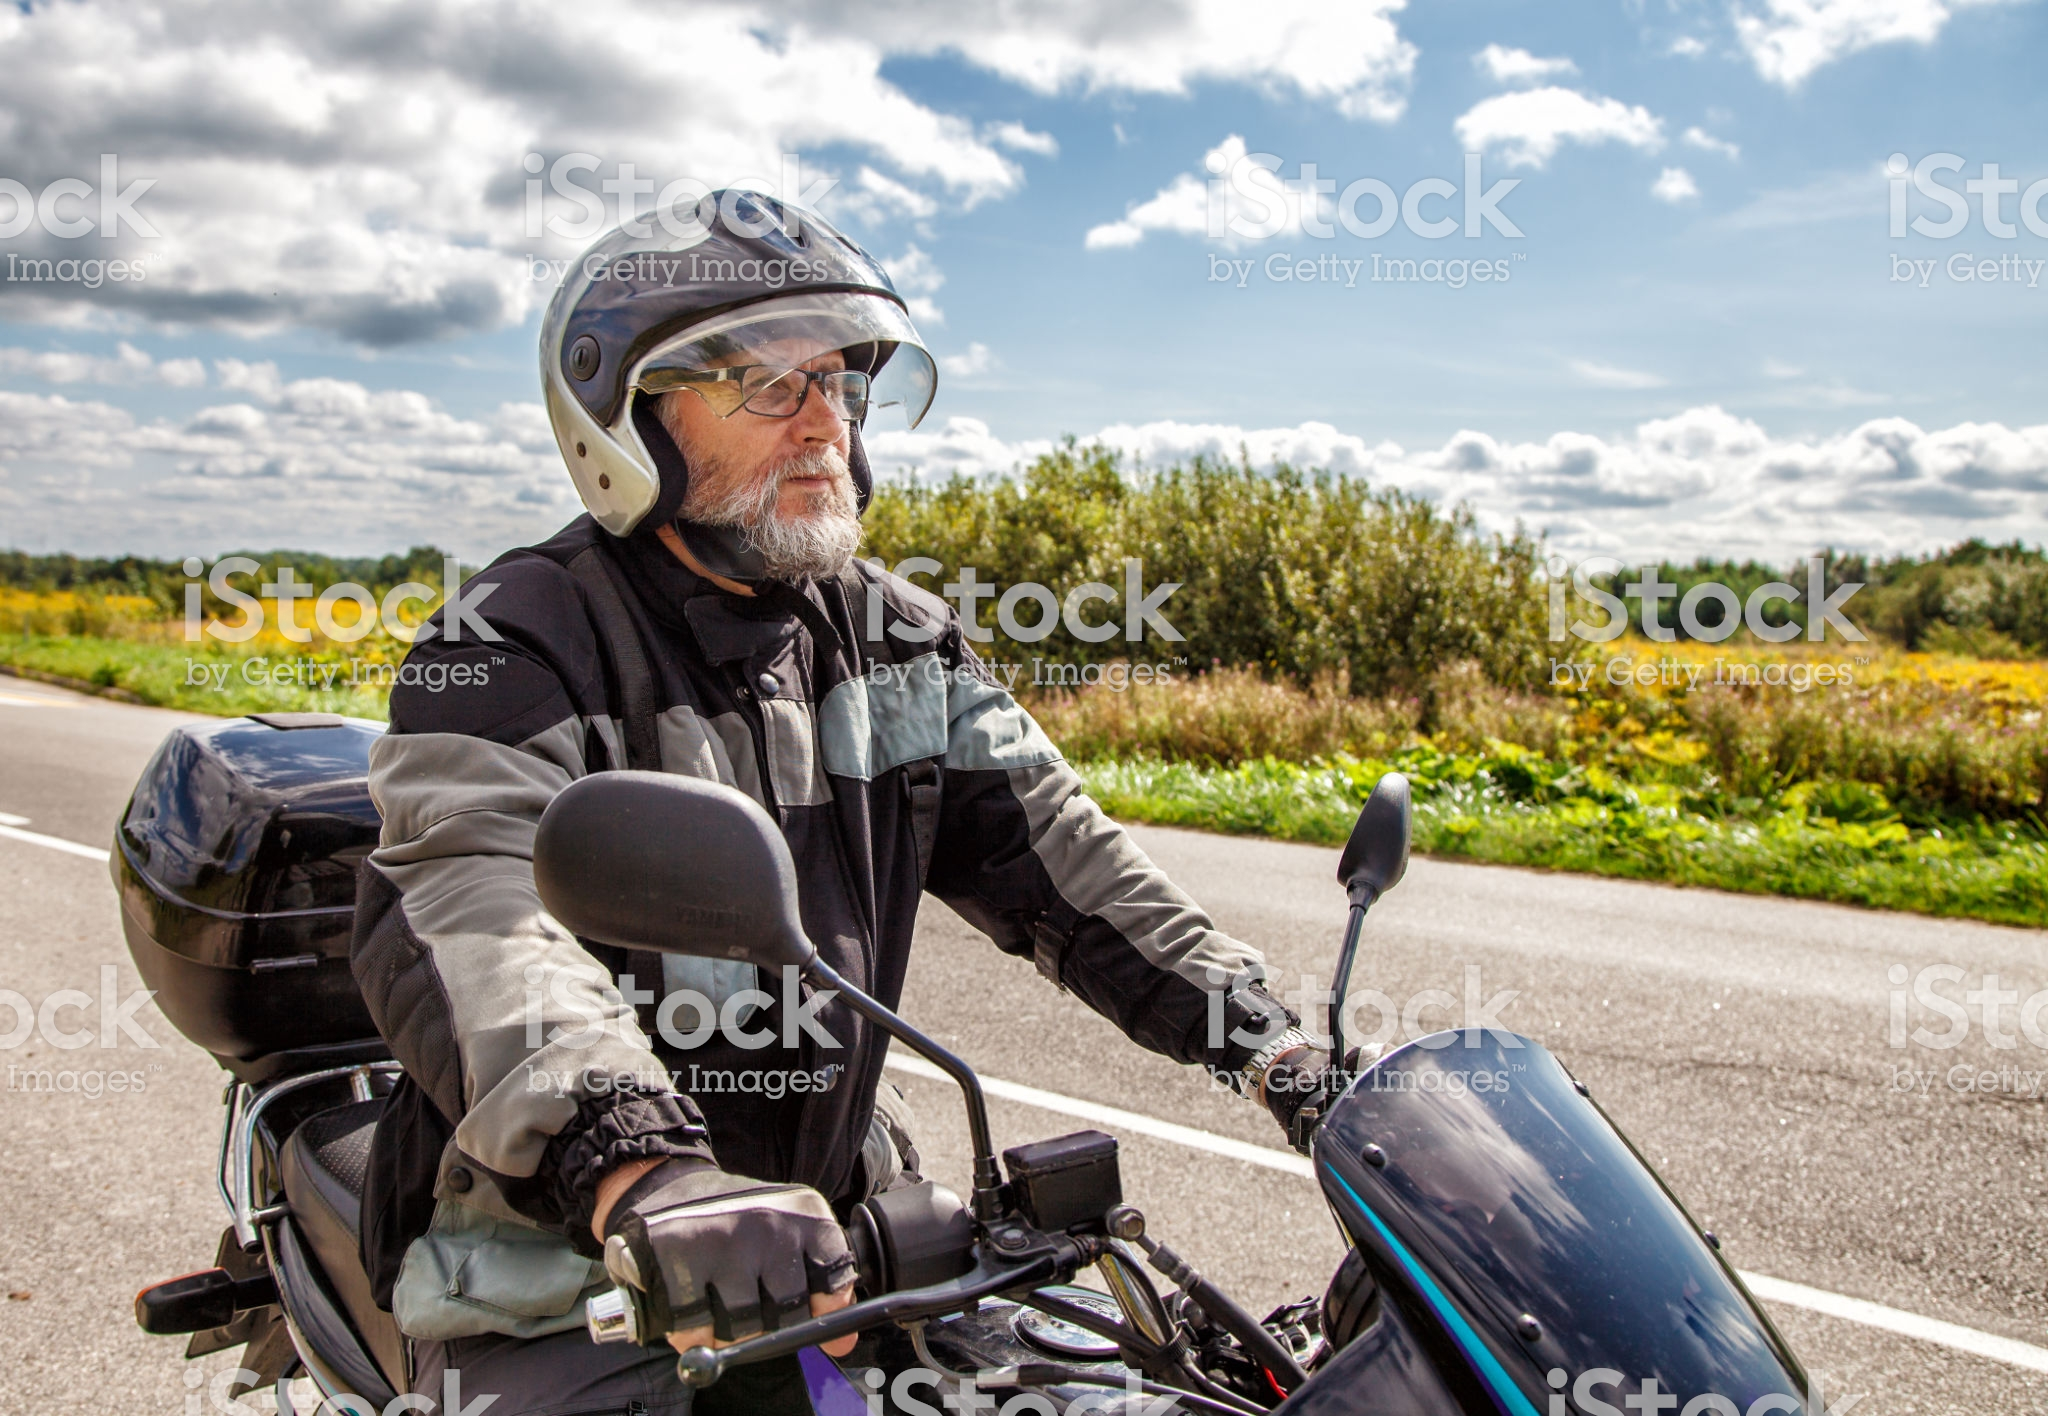helmet: (538, 188, 893, 517)
